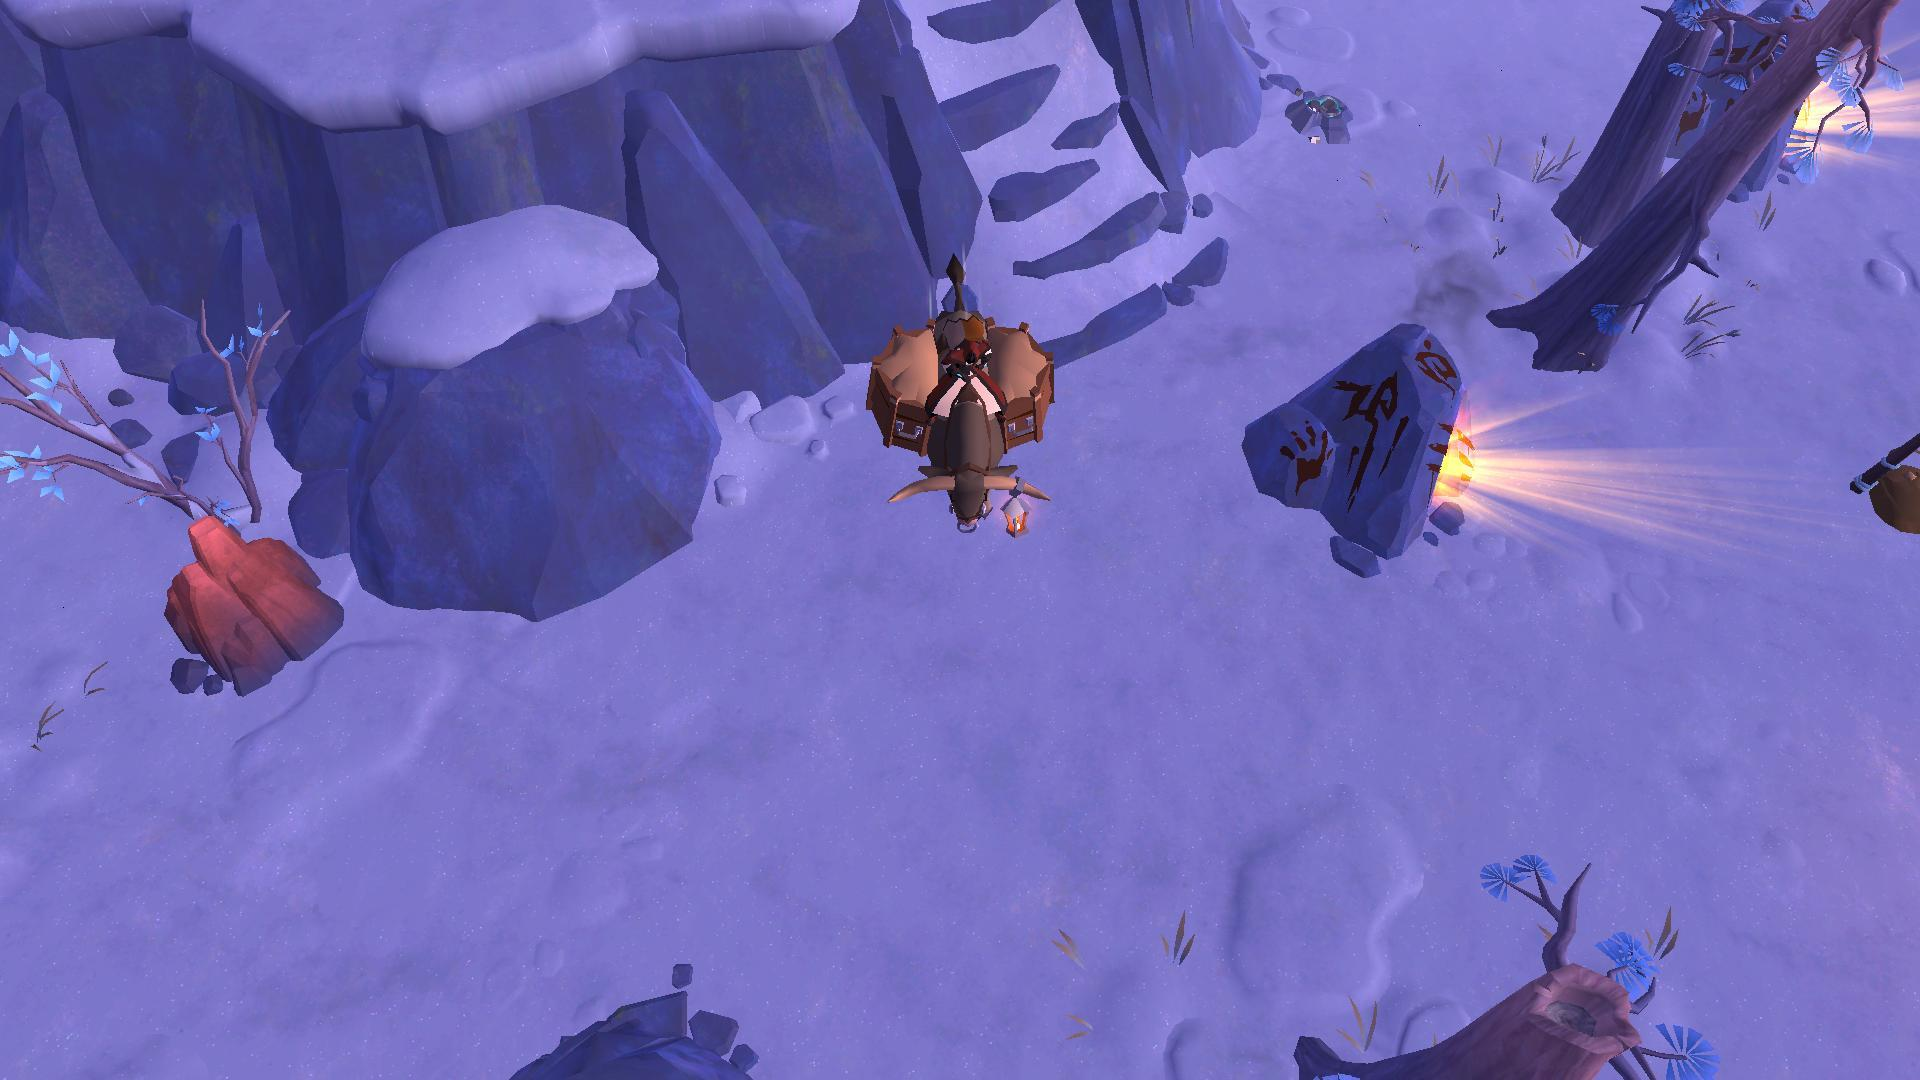rock_t5: (152, 508, 343, 691)
